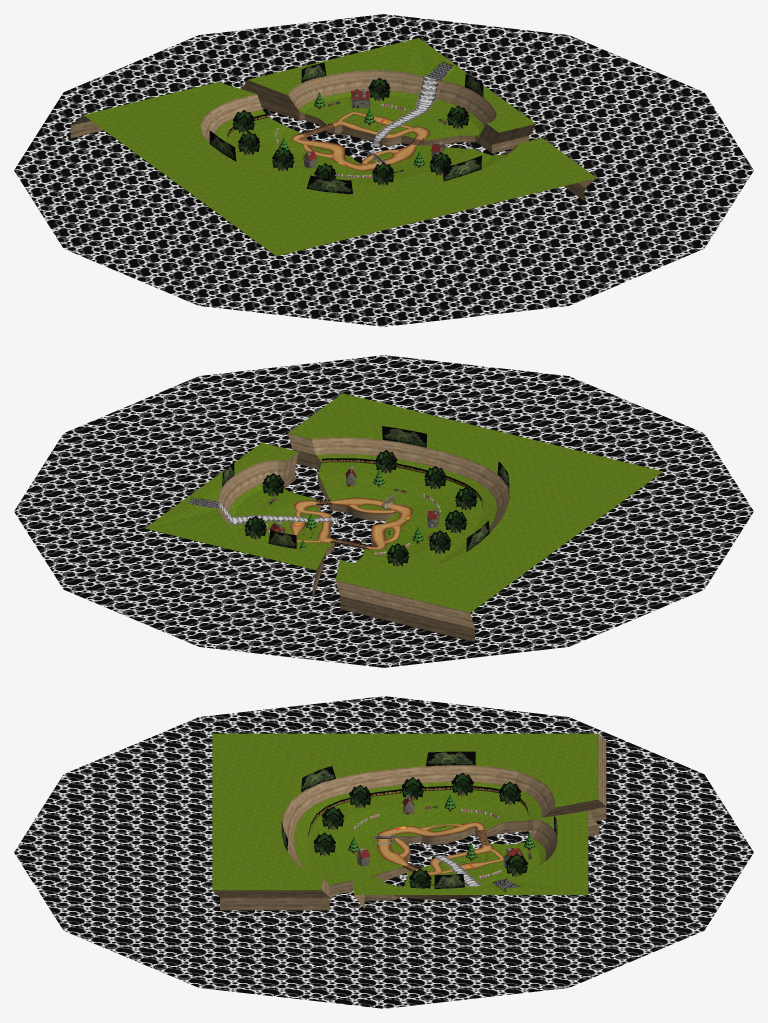
3 renders of one model, top to bottom at view 1: azimuth 30°, elevation 25°; view 2: azimuth 150°, elevation 25°; view 3: azimuth 270°, elevation 25°, orthographic.
Visible parts, largest first — view 1: Pocha.001, Bridge_003, Bridge_004, Oak_Tree_SKP__tex_bark, Bridge_002, _2dTrees, River.002; view 2: Pocha.001, Bridge_003, Bridge_004, Oak_Tree_SKP__tex_bark, Bridge_002, _2dTrees, Fence.010, River.002; view 3: Pocha.001, Bridge_003, Bridge_004, Oak_Tree_SKP__tex_bark, Bridge_002, _2dTrees, Fence.010.
Part boxes in pixels (x1,y1,x2,y2): Pocha.001: (14, 14, 753, 326); Bridge_003: (84, 38, 596, 256); Bridge_004: (70, 70, 596, 201); Oak_Tree_SKP__tex_bark: (232, 77, 468, 185); Bridge_002: (291, 111, 429, 171); _2dTrees: (209, 62, 483, 194); River.002: (372, 76, 438, 147); Pocha.001: (14, 355, 753, 667); Bridge_003: (145, 393, 662, 612); Bridge_004: (217, 433, 509, 641); Oak_Tree_SKP__tex_bark: (244, 450, 477, 566); Bridge_002: (290, 497, 412, 549); _2dTrees: (222, 426, 509, 551); Fence.010: (321, 458, 482, 508); River.002: (220, 501, 339, 527); Pocha.001: (14, 696, 753, 1008); Bridge_003: (212, 733, 598, 894); Bridge_004: (212, 734, 606, 910); Oak_Tree_SKP__tex_bark: (313, 772, 527, 888); Bridge_002: (376, 822, 503, 875); _2dTrees: (281, 751, 557, 888); Fence.010: (308, 786, 528, 836).
Size of the model in its own units: 226259 by 23376 by 226259.
Materials: 29 (29 with a texture image).
